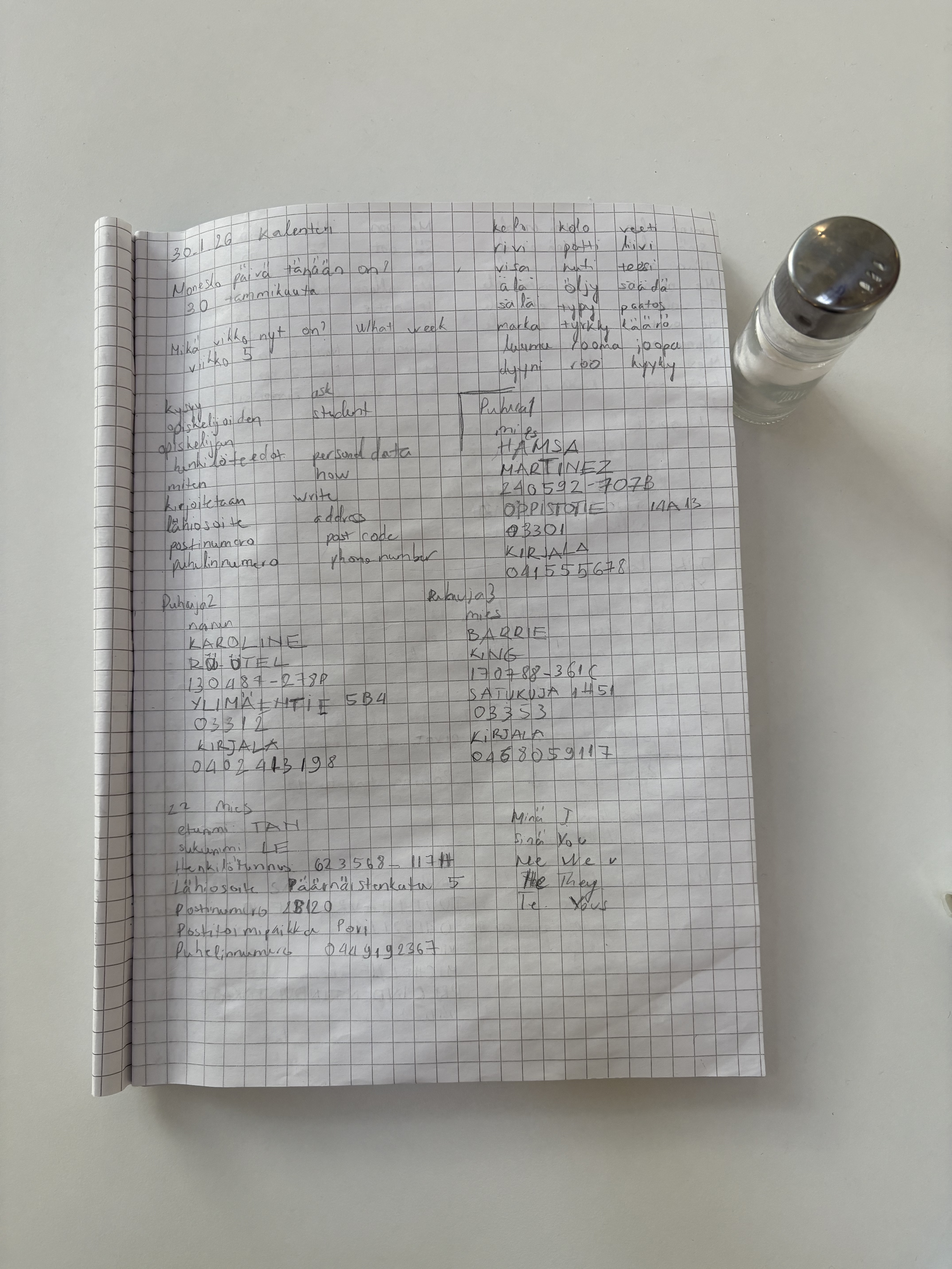paper: (89, 196, 773, 1090)
